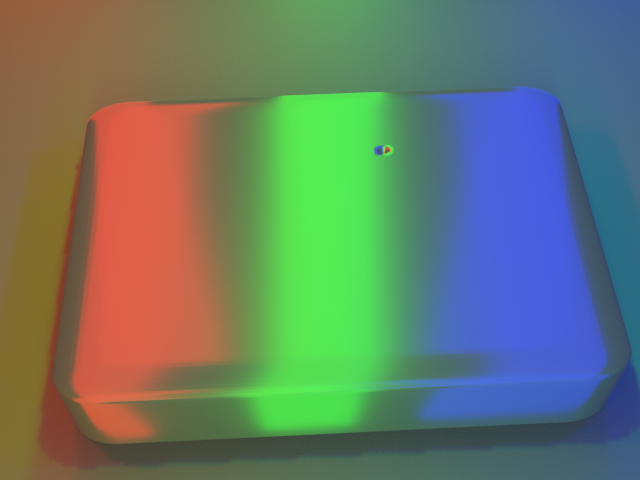dent: (368, 125, 409, 165)
